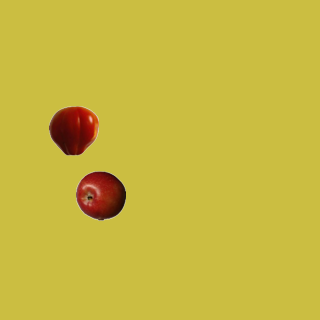Apple Braeburn: (75, 170, 125, 220)
Tomato 1: (48, 105, 98, 155)
